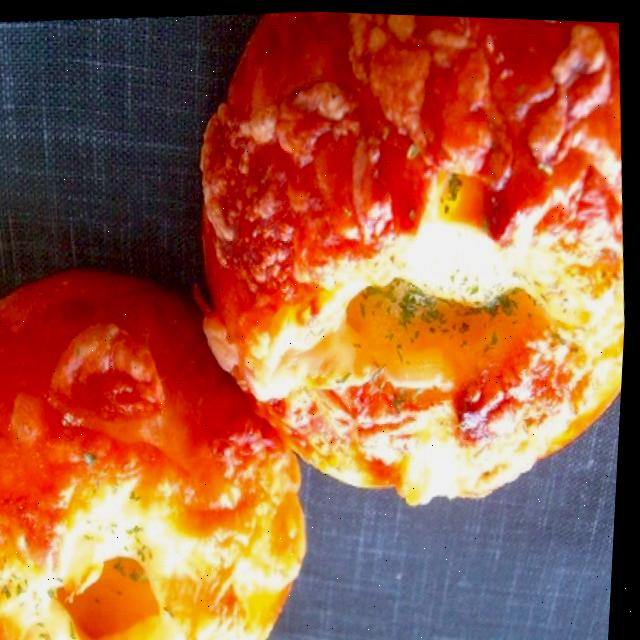三明治: (162, 5, 640, 549)
